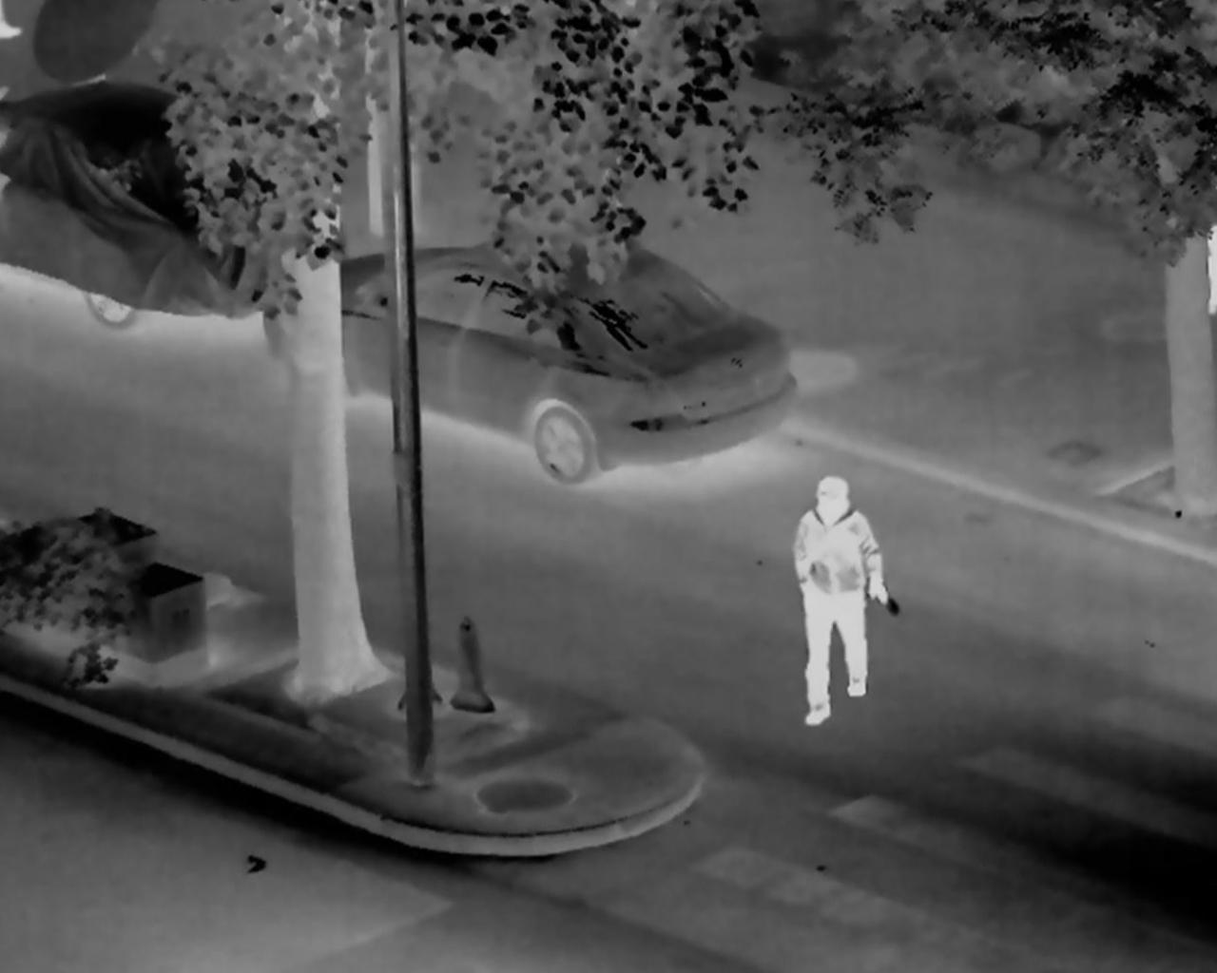person: (790, 474, 889, 728)
